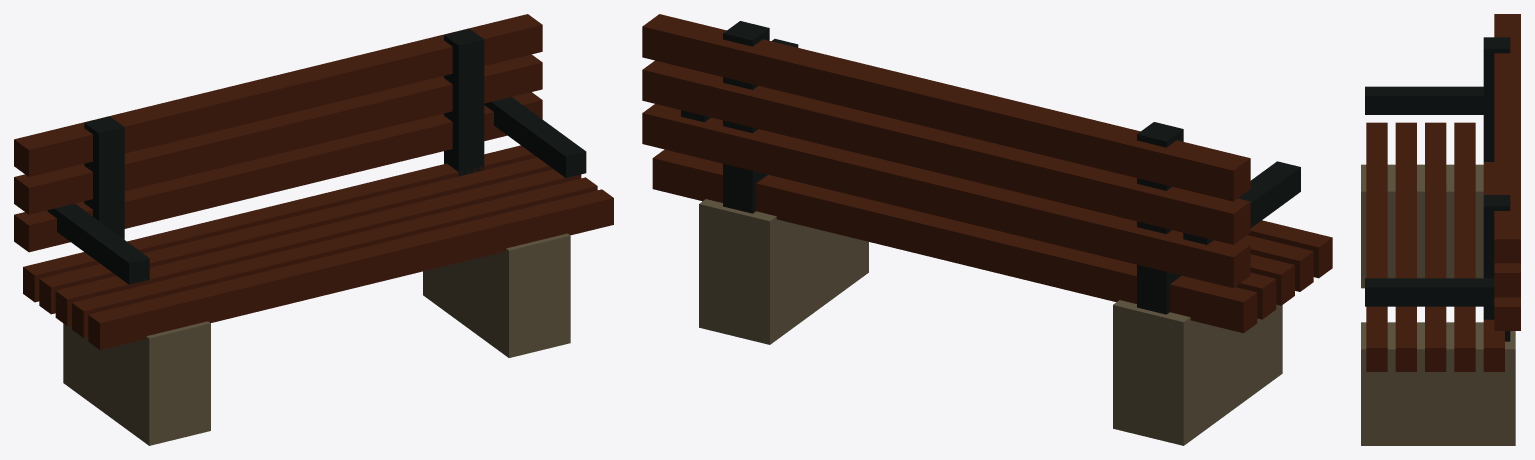
File: SM_Bogota_Banca.fbx
3 views of the same model, side by side, from view 1: azimuth 30°, elevation 25°; view 2: azimuth 150°, elevation 25°; view 3: azimuth 270°, elevation 25° (orthographic). The views are drawn at different scales.
Parts seen in each view (by area): view 1: SM_Bogota_Banca; view 2: SM_Bogota_Banca; view 3: SM_Bogota_Banca.
Part boxes in pixels (box(x1,y1,x2,y2)): SM_Bogota_Banca: box(14, 14, 613, 445); SM_Bogota_Banca: box(642, 14, 1332, 445); SM_Bogota_Banca: box(1361, 14, 1520, 445).
Size of the model in its own units: 2 by 0.6 by 0.96.
